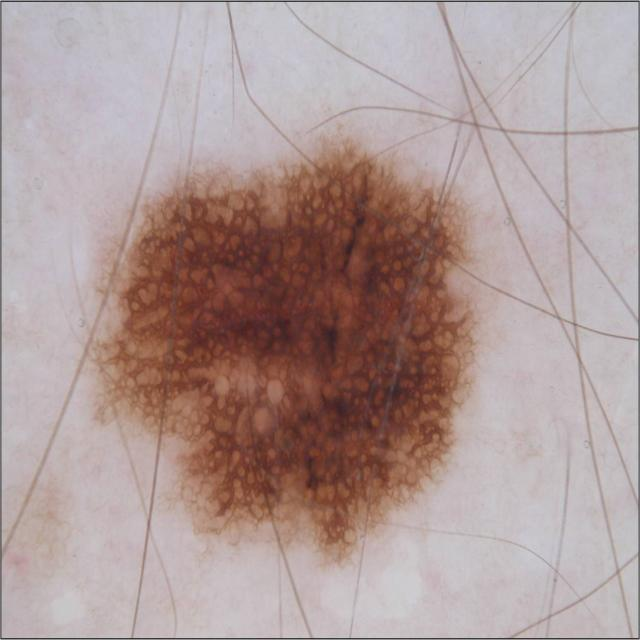Benign: (83, 145, 479, 565)
